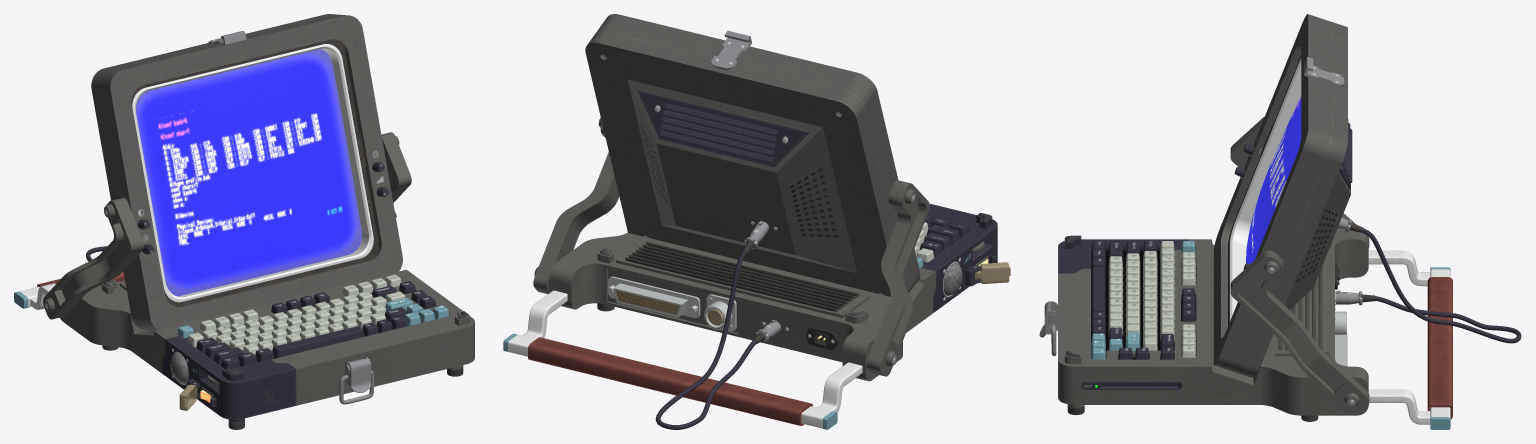
Rendered from sci_fi_laptop_alternative_90s.glb.
3 renders of one model, left to right at view 1: azimuth 30°, elevation 25°; view 2: azimuth 150°, elevation 25°; view 3: azimuth 270°, elevation 25°, orthographic. The views are drawn at different scales.
Parts seen in each view (by area): view 1: Laptop_Export; view 2: Laptop_Export; view 3: Laptop_Export.
Boxes of the visible parts, x1=… form: Laptop_Export: x1=14, y1=14, x2=474, y2=429; Laptop_Export: x1=503, y1=14, x2=1010, y2=429; Laptop_Export: x1=1039, y1=14, x2=1521, y2=429.
Bounding box in the file's own units: 0.4722 × 0.3854 × 0.5725.
1 material, 1 textured.
